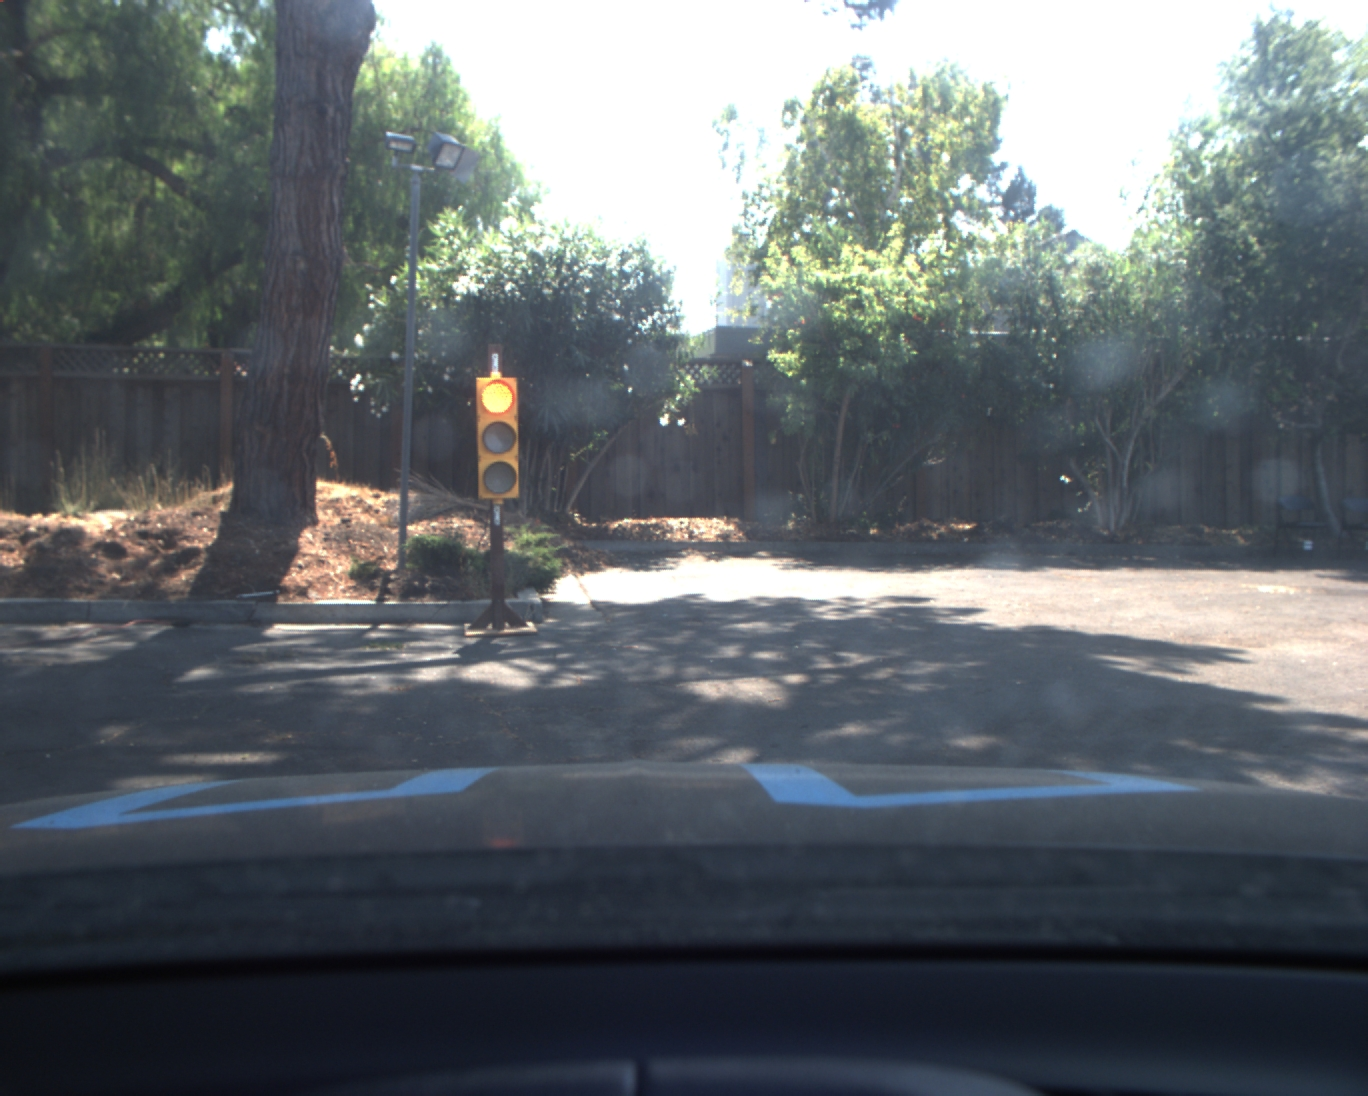red: (477, 371, 531, 502)
